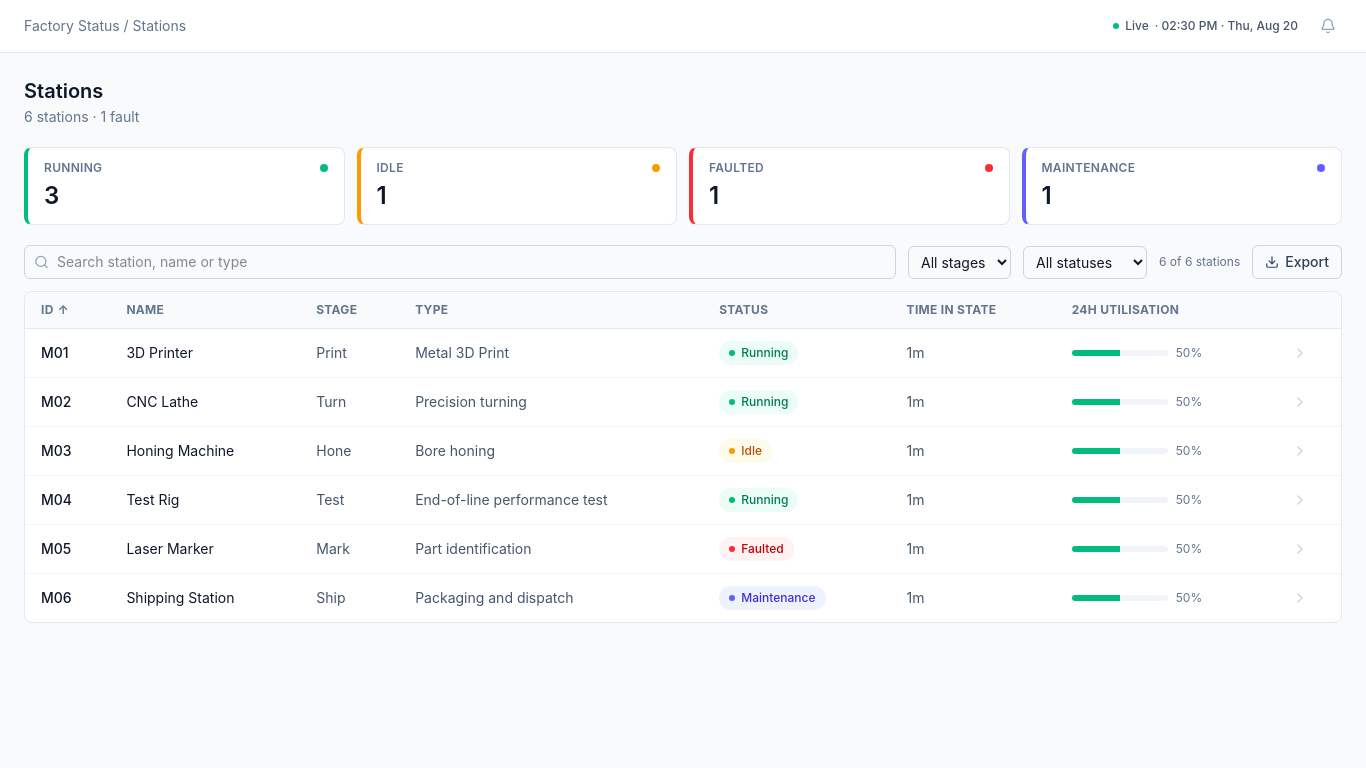
Test: Stations page › shows a filtered-empty state with a working clear-filters action
Type "nonexistent station" into the field with placeholder "Search station, name or type".
click(460, 262); type("nonexistent station")  # box [24,245,896,279]
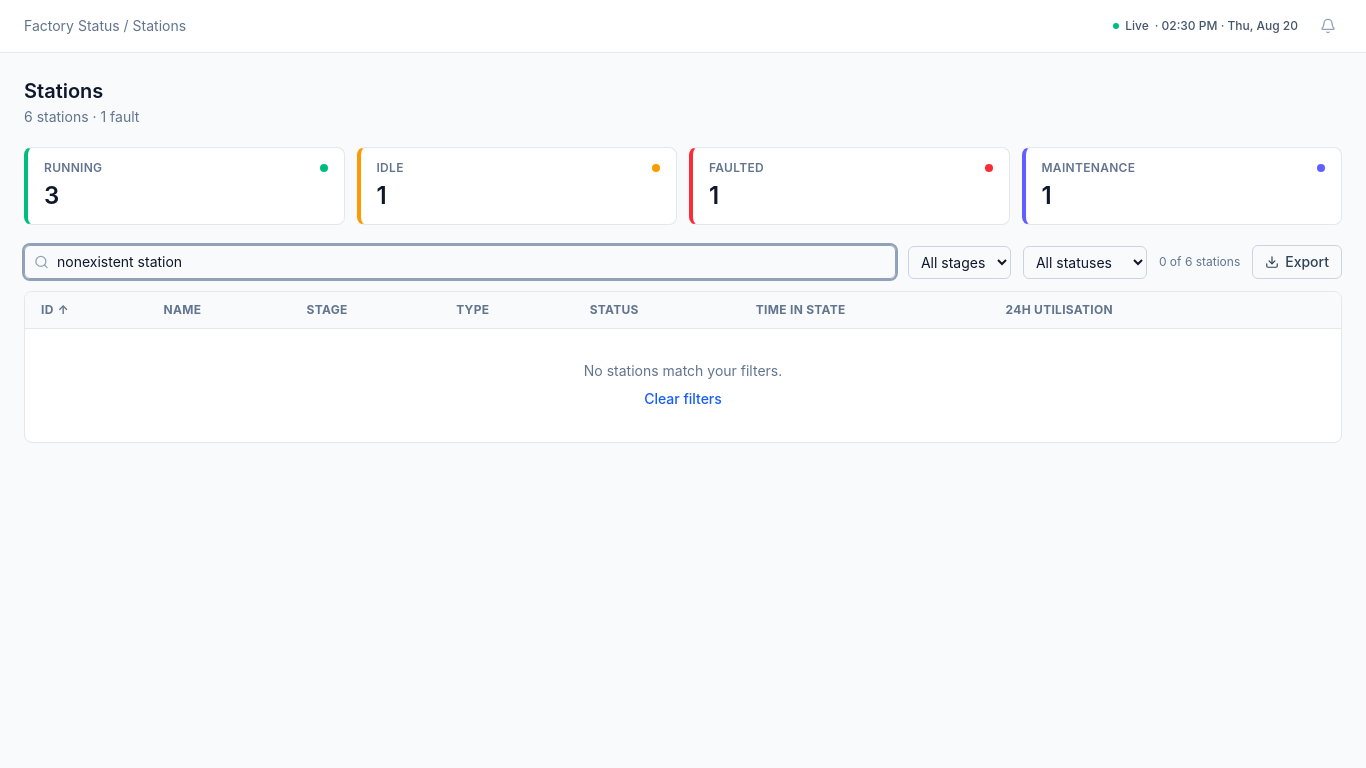
Result: the text "No stations match your filters." is shown at [584,362,782,379]
Click the button "Clear filters".
click(683, 399)  # box [644,389,722,409]
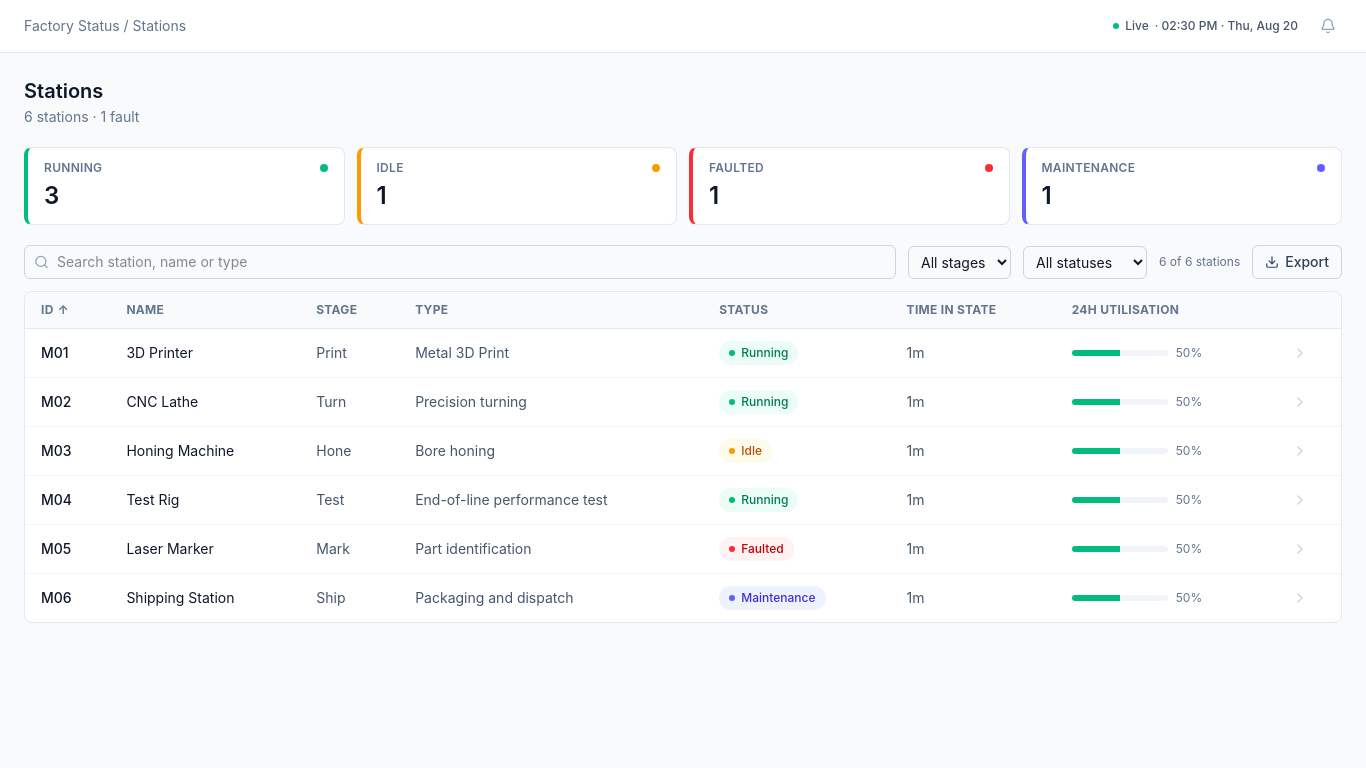
Result: the text "M01" is shown at [25,328,110,378]
